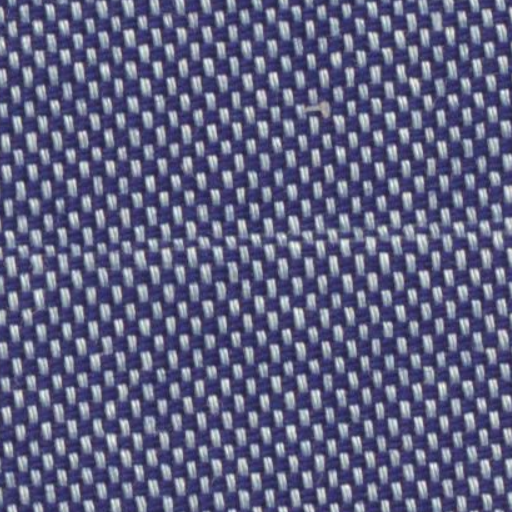TuoSha: (21, 192, 496, 307)
